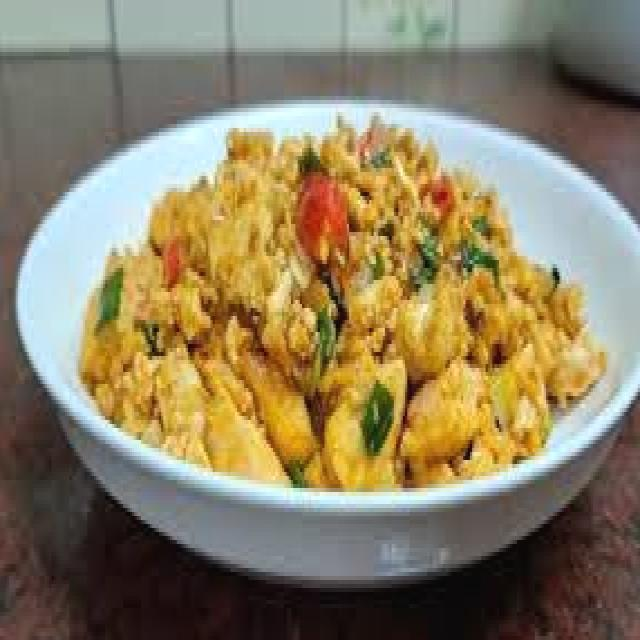telur_orak_arik: (84, 122, 569, 494)
